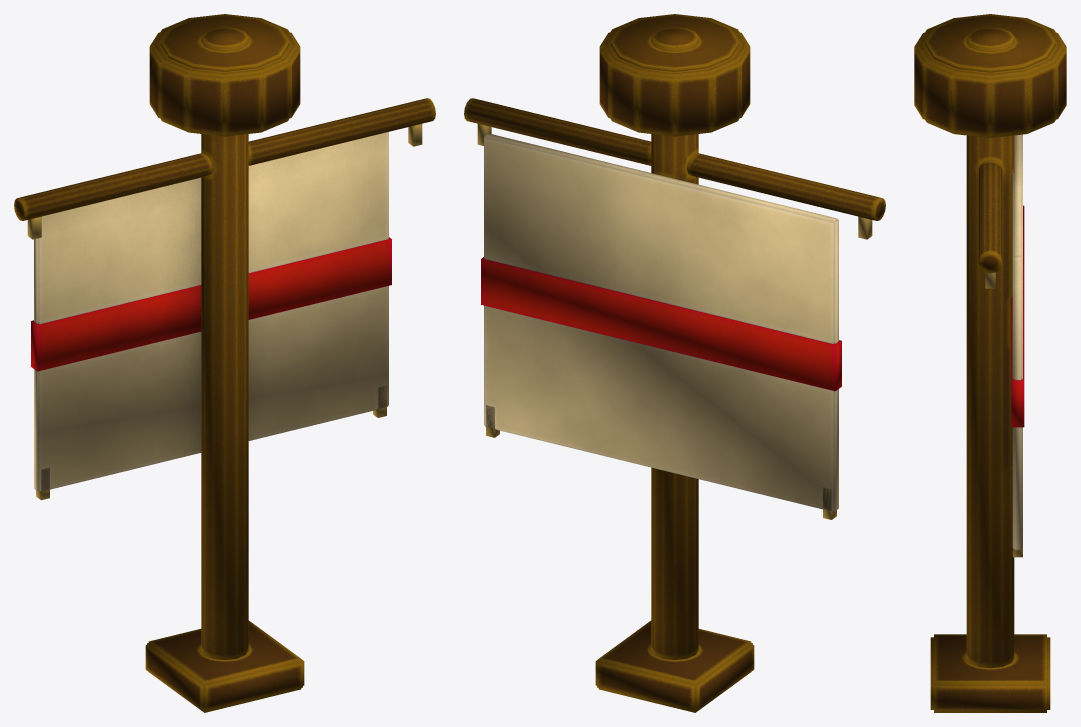
File: ShipMast.fbx
3 renders of one model, left to right at view 1: azimuth 30°, elevation 25°; view 2: azimuth 150°, elevation 25°; view 3: azimuth 270°, elevation 25°, orthographic.
Parts seen in each view (by area): view 1: ShipMast; view 2: ShipMast; view 3: ShipMast.
Part boxes in pixels (x1,y1,x2,y2): ShipMast: (14, 14, 435, 712); ShipMast: (464, 14, 885, 712); ShipMast: (914, 14, 1066, 712).
Bounding box in the file's own units: 2.8 × 4.2 × 0.8896.
